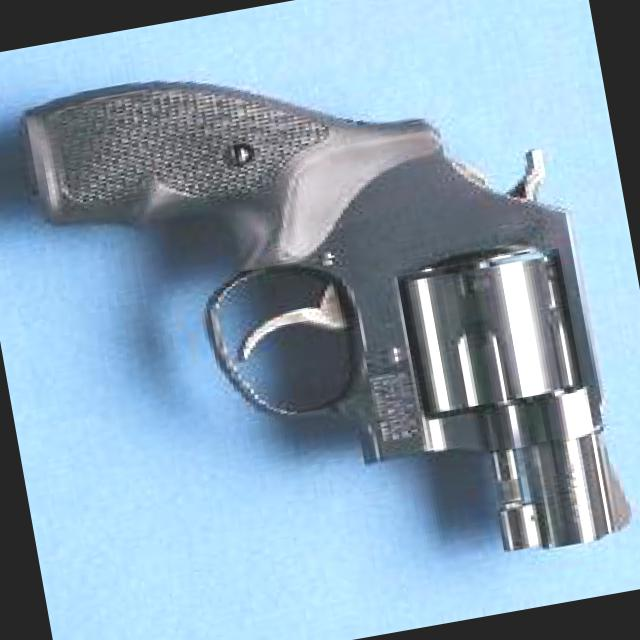handgun: (12, 7, 639, 627)
